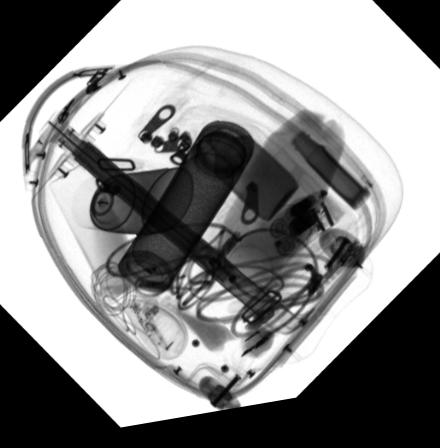Sprayer: (70, 174, 192, 241)
